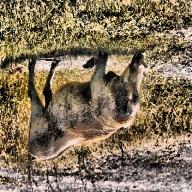boar: (30, 42, 155, 168)
